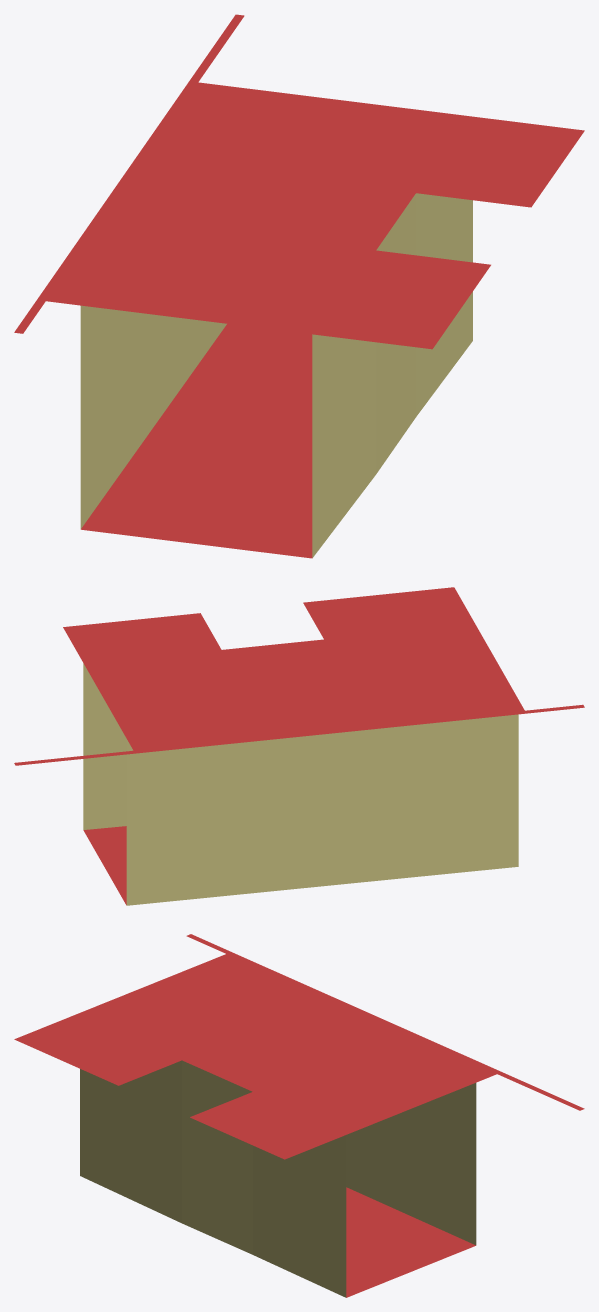
3 views of the same model, one above another, from view 1: azimuth 30°, elevation 25°; view 2: azimuth 150°, elevation 25°; view 3: azimuth 270°, elevation 25° (orthographic). The views are drawn at different scales.
Bounding box in the file's own units: 19.33 × 20.67 × 6.51.
